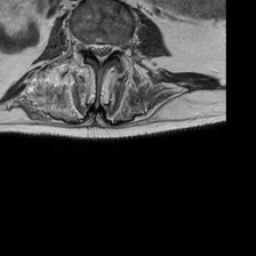CCS_normal: (96, 38, 104, 68)
LFS_stenosis: (112, 40, 119, 57)
LLS_normal: (106, 39, 111, 63)
RFS_stenosis: (84, 38, 91, 57)
RLS_normal: (91, 39, 96, 58)
